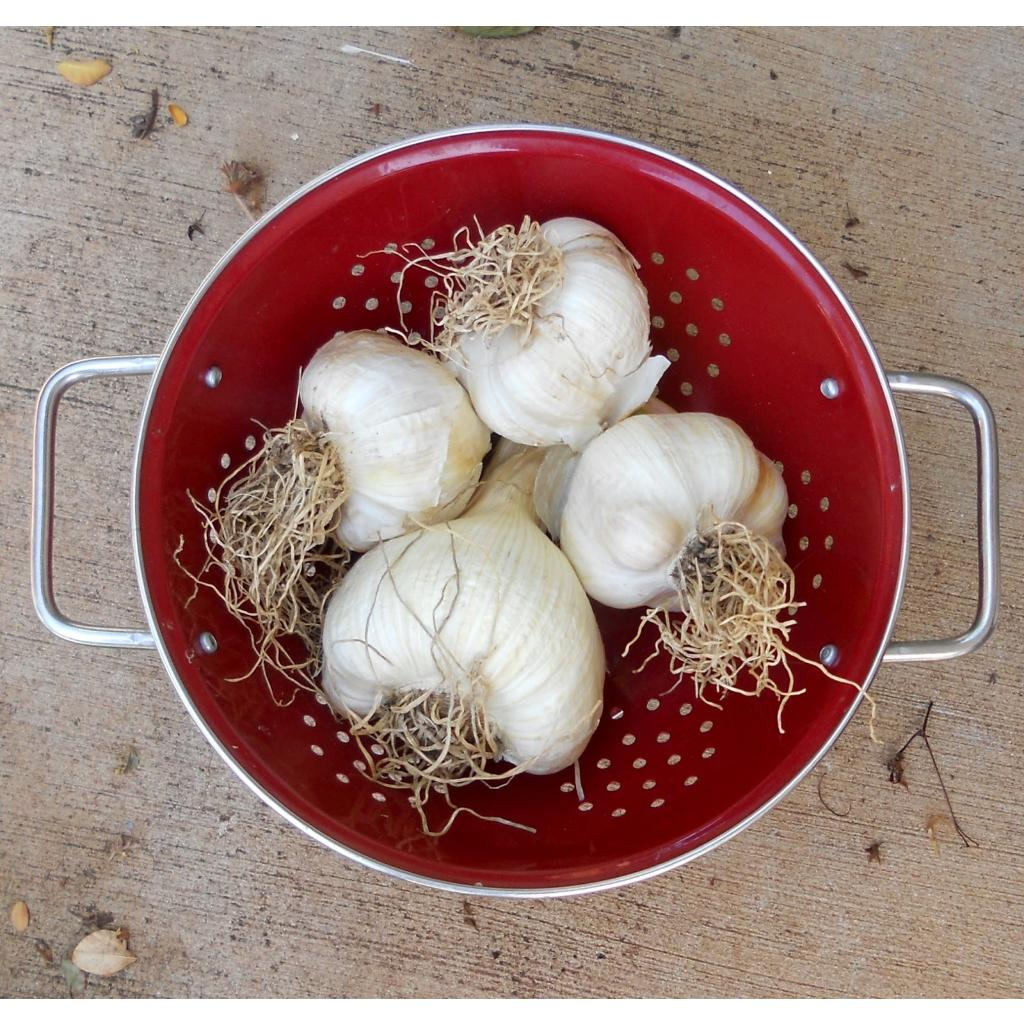garlic: (322, 447, 604, 773), (385, 216, 668, 449), (447, 216, 665, 449), (559, 411, 787, 608), (299, 329, 489, 549)
